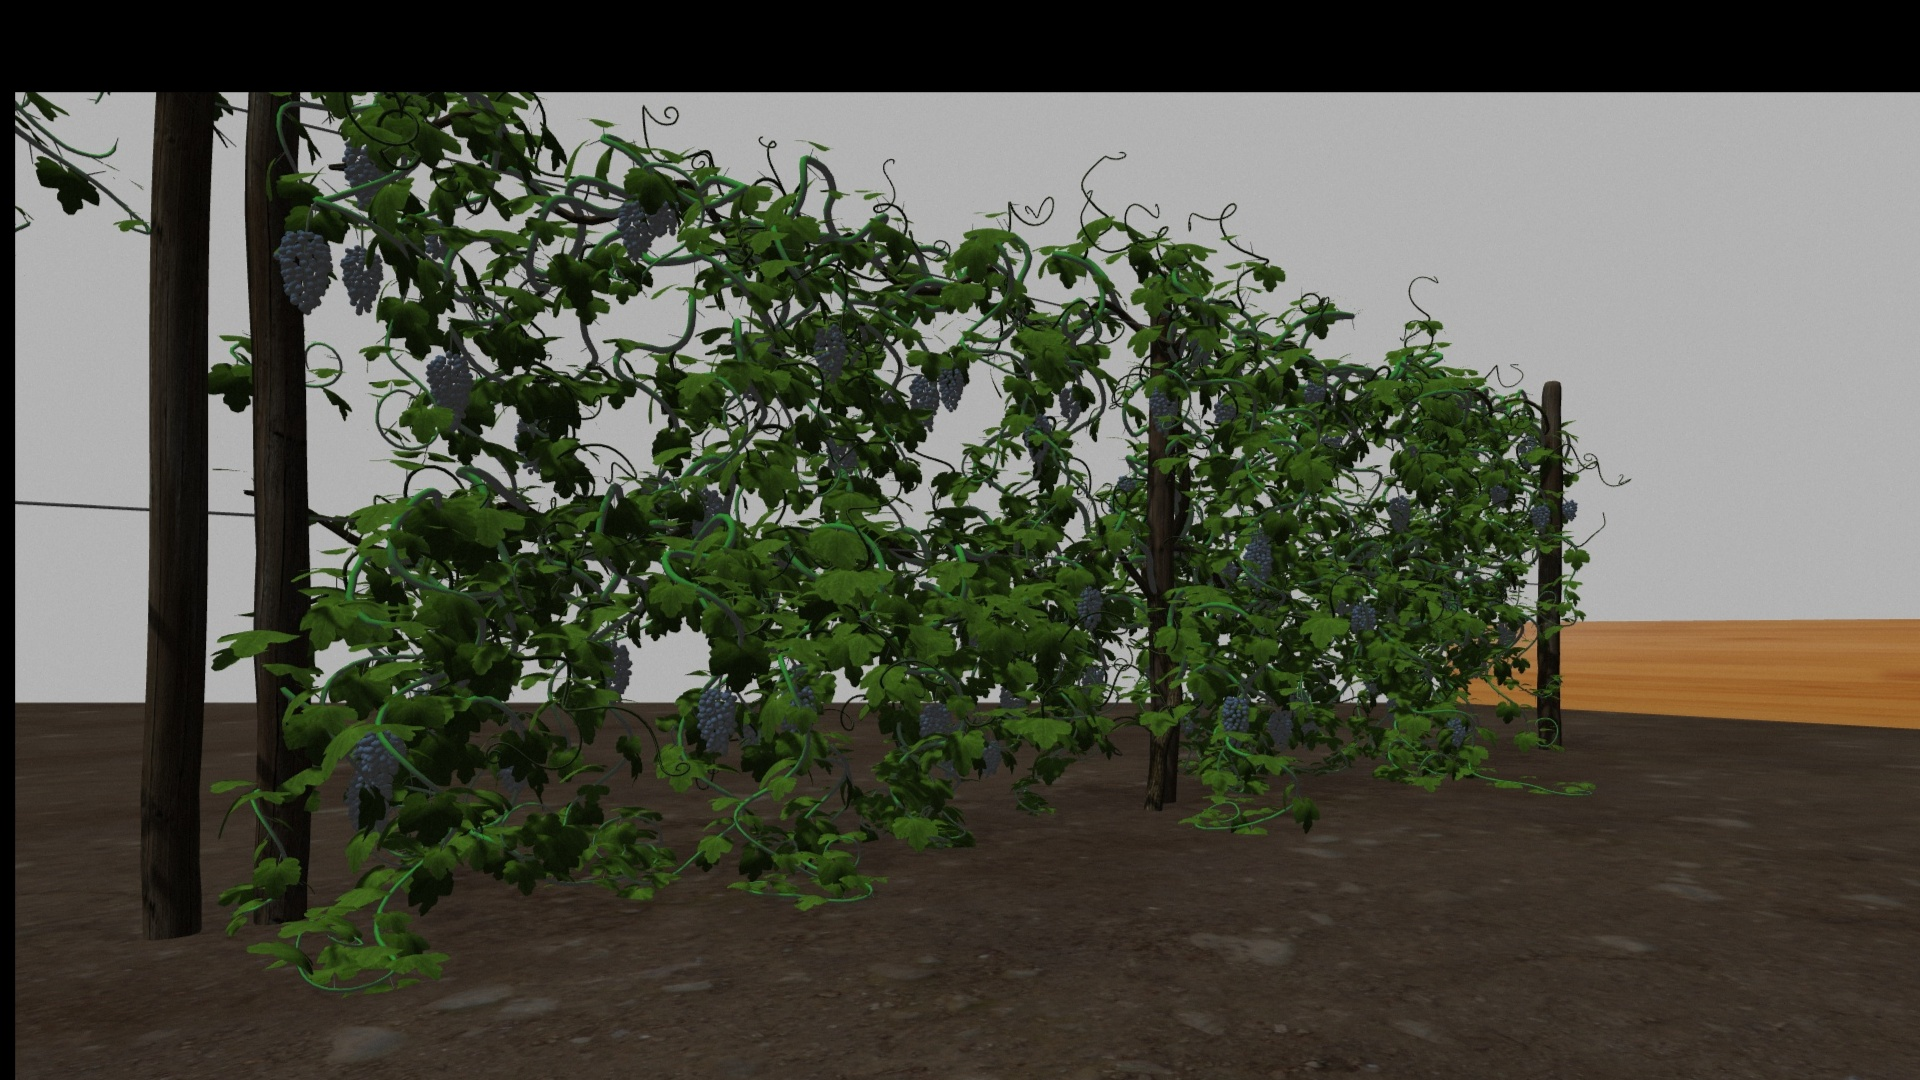grape: (343, 731, 406, 831), (276, 229, 332, 313), (425, 351, 475, 429), (342, 245, 384, 316), (342, 142, 390, 203), (696, 688, 737, 757), (593, 644, 633, 705), (616, 196, 653, 258), (814, 324, 848, 380), (1242, 539, 1273, 595), (909, 376, 938, 433), (936, 355, 965, 411), (646, 191, 680, 237), (1149, 384, 1180, 433), (918, 703, 953, 742), (1072, 587, 1102, 630), (1218, 694, 1250, 731), (1266, 709, 1295, 749), (1385, 495, 1412, 535), (976, 738, 1002, 779), (1352, 603, 1377, 636), (1443, 717, 1468, 748), (1530, 504, 1551, 531), (1212, 404, 1236, 425), (1304, 382, 1325, 405), (1489, 485, 1509, 506), (1561, 498, 1578, 522)
